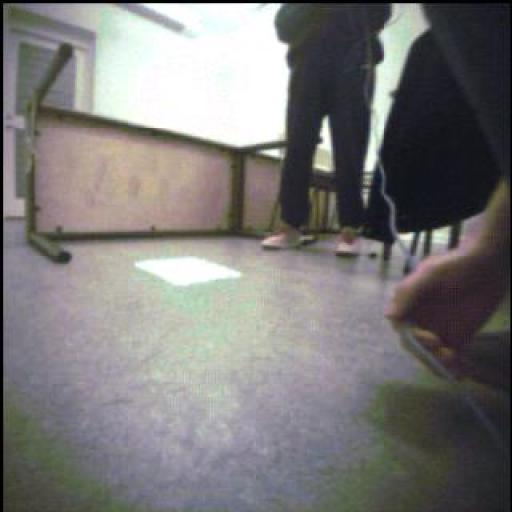Pad: (127, 254, 244, 292)
